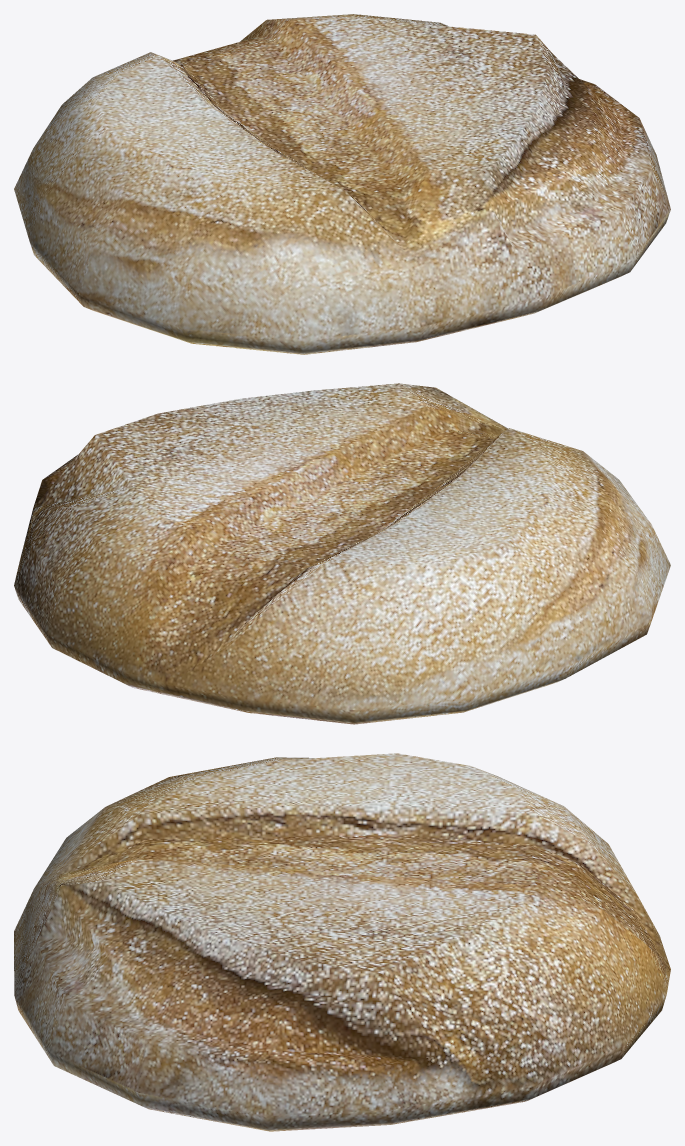
The model's file is Bread_03.fbx.
3 renders of one model, top to bottom at view 1: azimuth 30°, elevation 25°; view 2: azimuth 150°, elevation 25°; view 3: azimuth 270°, elevation 25°, orthographic. The views are drawn at different scales.
Visible parts, largest first — view 1: Bread_03_LOD0; view 2: Bread_03_LOD0; view 3: Bread_03_LOD0.
Boxes of the visible parts, x1,y1,x2,y2 form: Bread_03_LOD0: [14, 14, 670, 354]; Bread_03_LOD0: [14, 383, 670, 724]; Bread_03_LOD0: [14, 753, 670, 1131].
Size of what is drawn, in the model's own units: 32.97 by 6.59 by 30.33.
